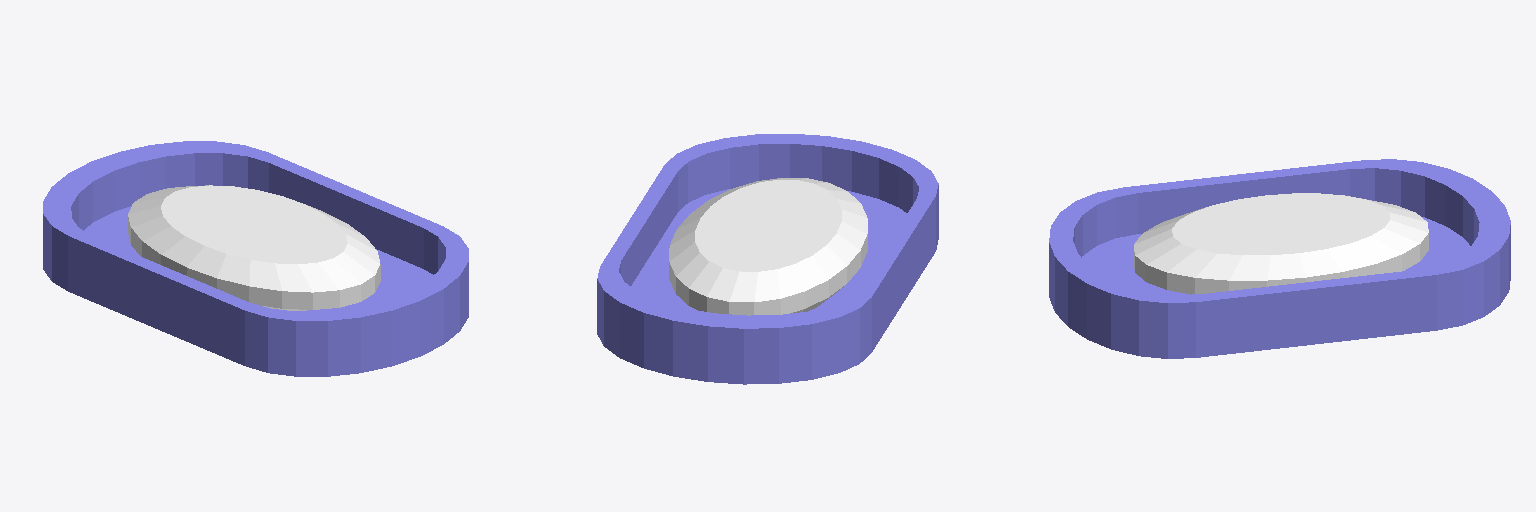
File: soap2.obj
The picture shows the model from 3 angles: view 1: azimuth 30°, elevation 25°; view 2: azimuth 150°, elevation 25°; view 3: azimuth 270°, elevation 25°; orthographic projection.
Visible parts, largest first — view 1: Mesh2 vyh5v1 bu5e1 Model, Mesh1 nu6sb1 bu5e1 Model; view 2: Mesh2 vyh5v1 bu5e1 Model, Mesh1 nu6sb1 bu5e1 Model; view 3: Mesh2 vyh5v1 bu5e1 Model, Mesh1 nu6sb1 bu5e1 Model.
Boxes of the visible parts, x1,y1,x2,y2 form: Mesh2 vyh5v1 bu5e1 Model: [43, 141, 468, 376]; Mesh1 nu6sb1 bu5e1 Model: [128, 185, 380, 310]; Mesh2 vyh5v1 bu5e1 Model: [597, 134, 938, 384]; Mesh1 nu6sb1 bu5e1 Model: [669, 178, 867, 315]; Mesh2 vyh5v1 bu5e1 Model: [1049, 159, 1510, 358]; Mesh1 nu6sb1 bu5e1 Model: [1134, 193, 1428, 294].
Bounding box in the file's own units: 0.1308 × 0.0262 × 0.177.